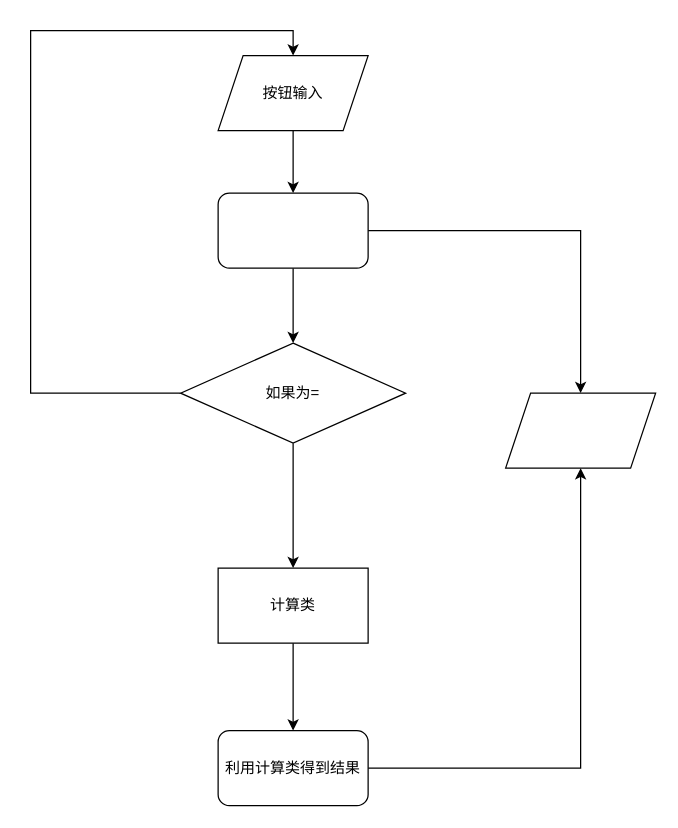
Image size: 678x828. Some labels were removed from this diagram. The shapes that lost their labels are listed below. From the top down, each one's box as (x1, y1, x2, y2) in pixels, then its label:
(217, 192, 368, 268): 通过函数转化为QString字符串
(504, 392, 656, 468): 输出当前字符
